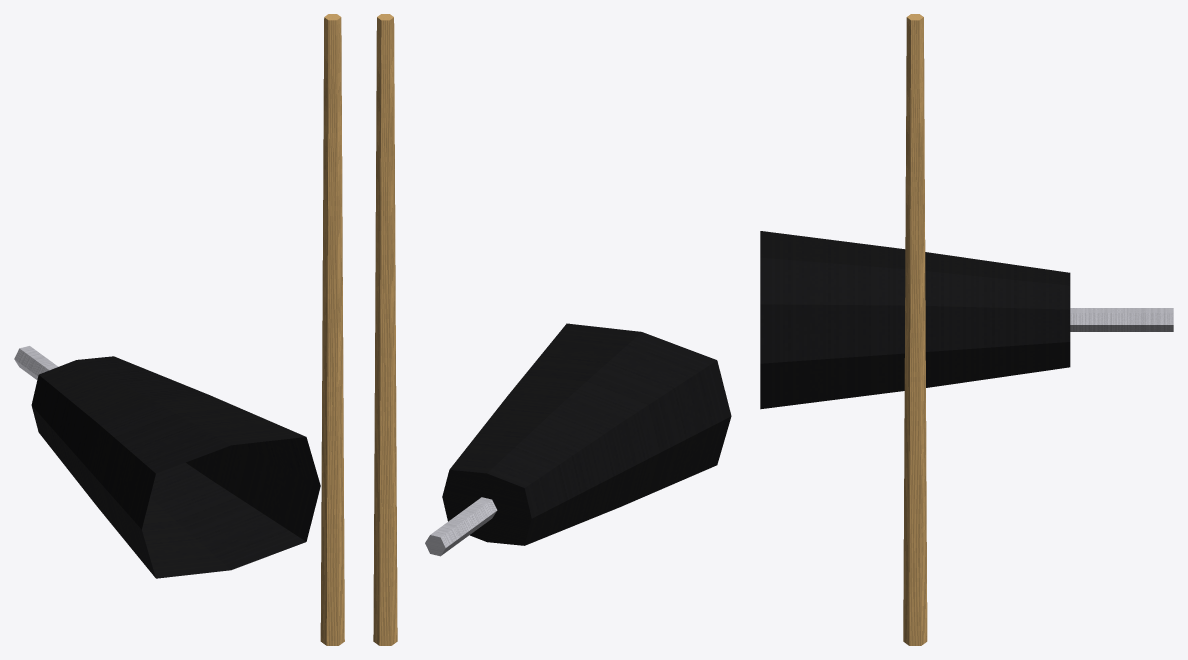
The model's file is cowbell.glb.
3 views of the same model, side by side, from view 1: azimuth 30°, elevation 25°; view 2: azimuth 150°, elevation 25°; view 3: azimuth 270°, elevation 25° (orthographic).
Parts seen in each view (by area): view 1: cowbell, cowbell_stick; view 2: cowbell, cowbell_stick; view 3: cowbell, cowbell_stick.
Boxes of the visible parts, <box> form: cowbell: <box>14,346,320,578</box>; cowbell_stick: <box>320,14,344,645</box>; cowbell: <box>425,323,731,556</box>; cowbell_stick: <box>373,14,397,645</box>; cowbell: <box>760,231,1173,409</box>; cowbell_stick: <box>903,14,927,645</box>.
Size of the model in its own units: 0.1861 by 0.4 by 0.24.
3 materials, 3 textured.
